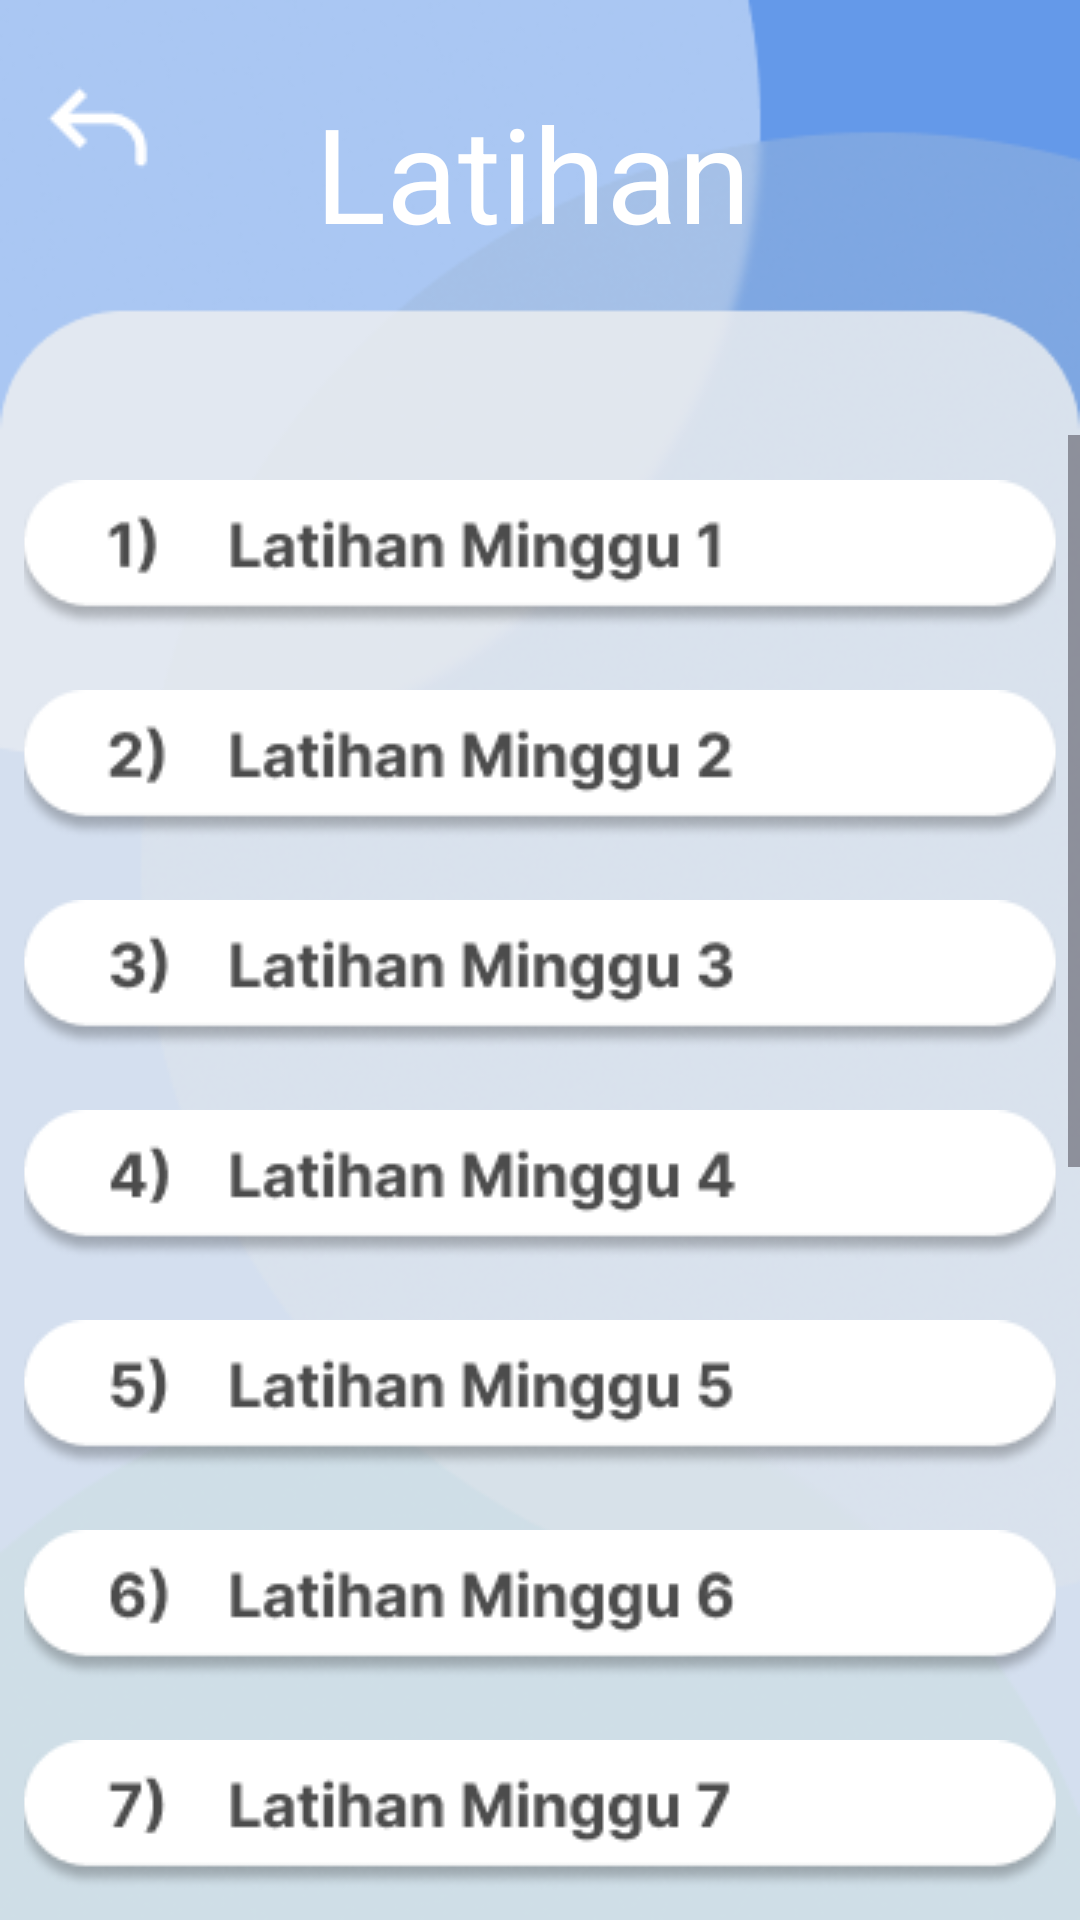

Screen size 1080 × 1920. Icon name, then its box in pixels as (x1, y1, x2, y2):
backbutton: (50, 89, 147, 166)
